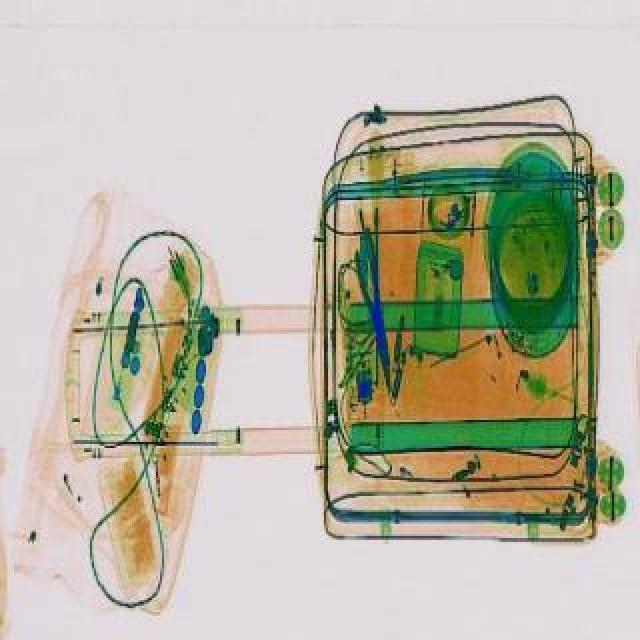wrench: (346, 226, 402, 392)
